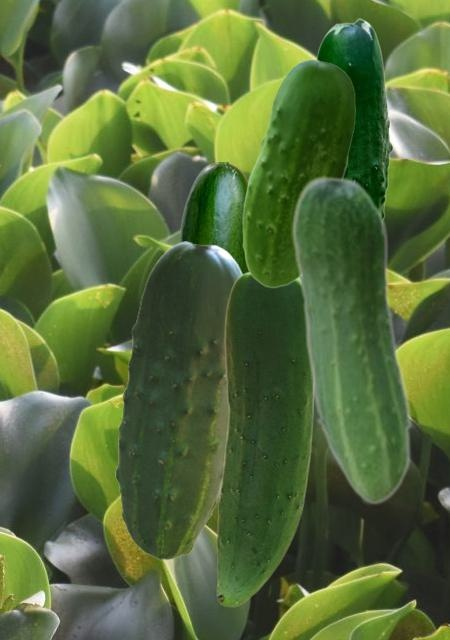cucumber: (115, 241, 244, 559), (291, 174, 412, 504), (216, 271, 314, 606), (242, 59, 354, 287), (316, 18, 392, 217), (179, 162, 247, 272)
